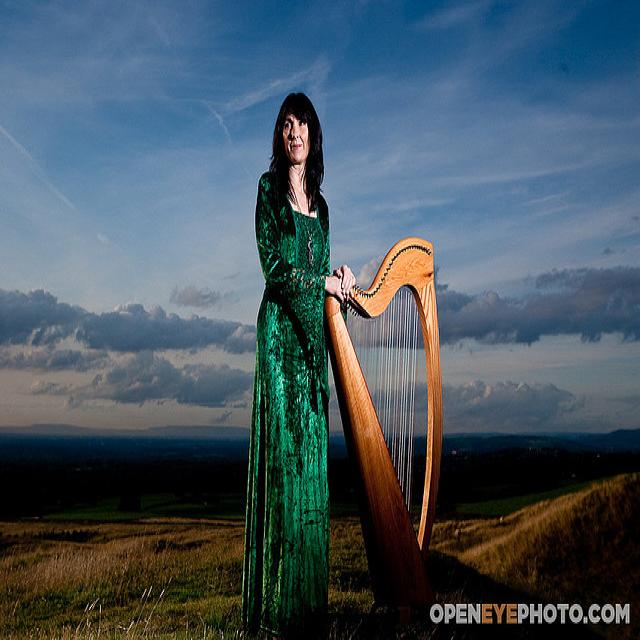harp: (319, 235, 449, 624)
